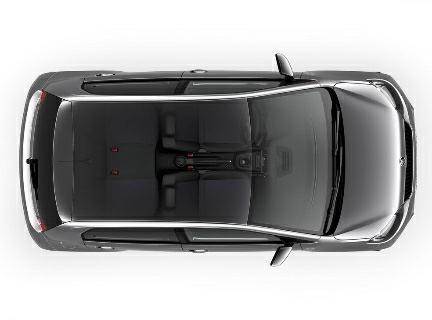斯柯达-Citigo: (19, 52, 417, 265)
